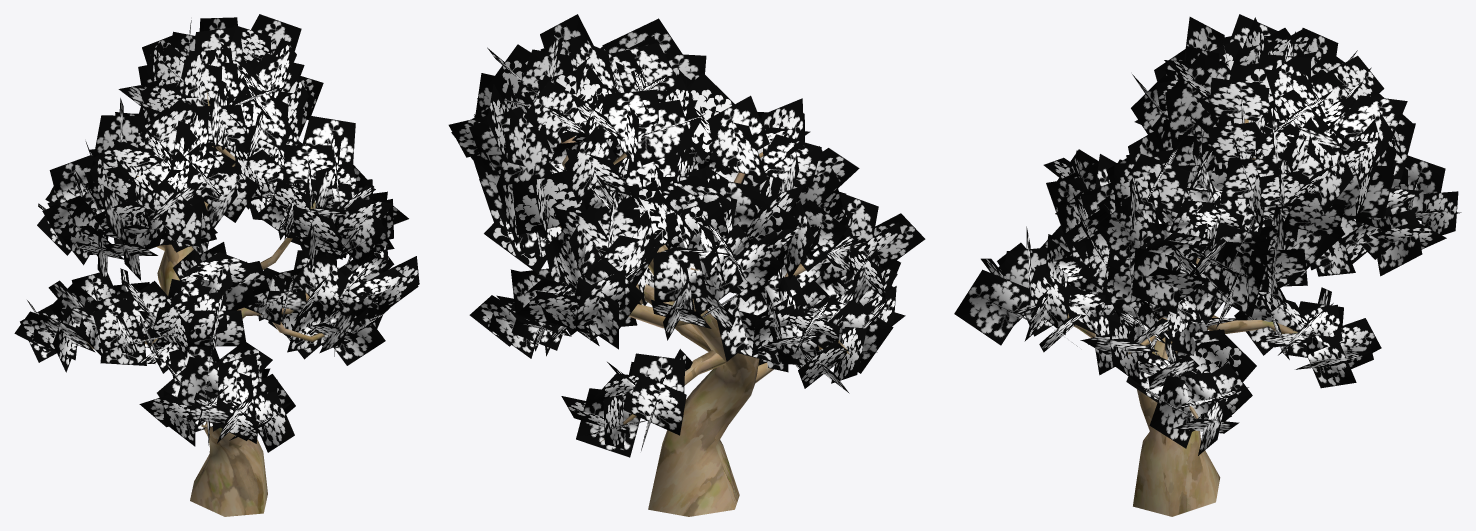
File: P_KnotwoodTree01.obj
The picture shows the model from 3 angles, left to right: view 1: azimuth 30°, elevation 25°; view 2: azimuth 150°, elevation 25°; view 3: azimuth 270°, elevation 25°; orthographic projection. The views are drawn at different scales.
Bounding box in the file's own units: 14.71 × 17.06 × 16.4.
